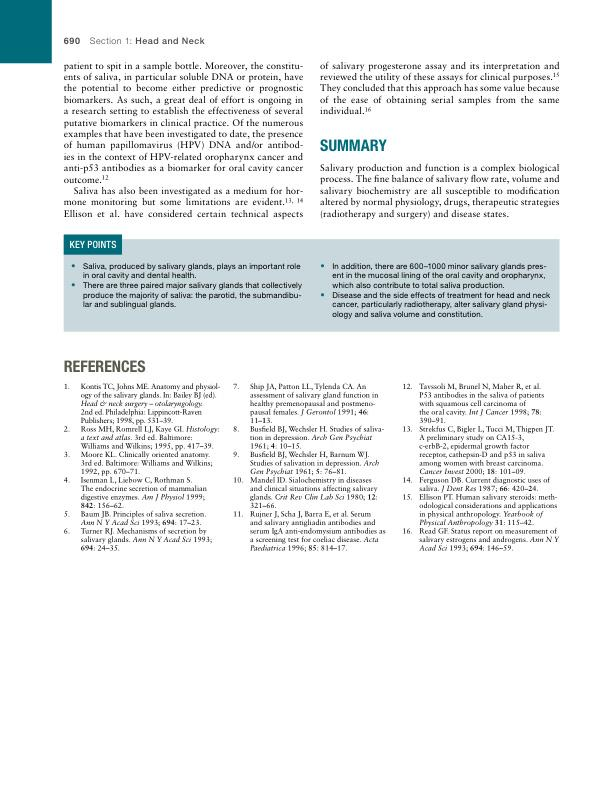caption: (69, 240, 117, 249)
header: (89, 36, 206, 45)
list: (402, 382, 561, 553), (62, 382, 221, 552), (231, 382, 387, 552), (319, 262, 551, 321), (69, 262, 303, 310)
section-heading: (63, 359, 146, 374), (319, 138, 387, 152)
text: (63, 61, 304, 221), (319, 162, 561, 221), (318, 60, 561, 115)
